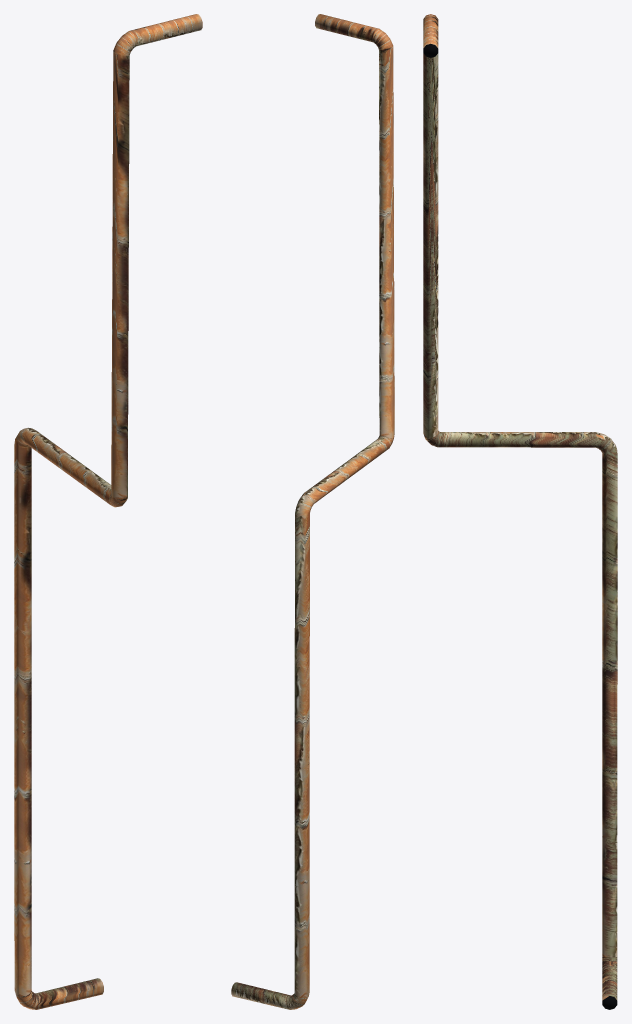
The model's file is wallPipe1_100.fbx.
3 views of the same model, side by side, from view 1: azimuth 30°, elevation 25°; view 2: azimuth 150°, elevation 25°; view 3: azimuth 270°, elevation 25° (orthographic). The views are drawn at different scales.
Parts seen in each view (by area): view 1: pipeE200; view 2: pipeE200; view 3: pipeE200.
Part boxes in pixels (bbox=[...]): pipeE200: bbox=[14, 14, 202, 1009]; pipeE200: bbox=[231, 14, 394, 1009]; pipeE200: bbox=[423, 14, 617, 1009].
Size of the model in its own units: 0.5333 by 6.23 by 1.14.
